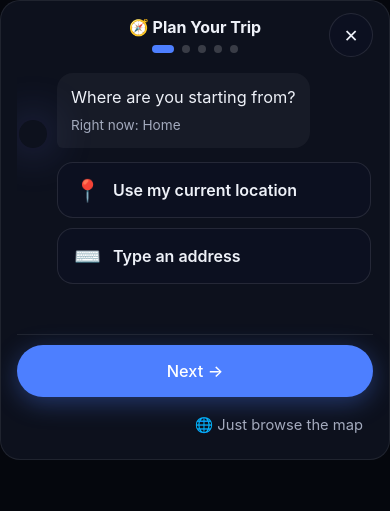
Test: Plan Your Trip wizard › Back returns to the previous step and Skip moves on without an answer
Click the button "Next →". click: (195, 371)
box: top-left (17, 345), bottom-right (373, 397)
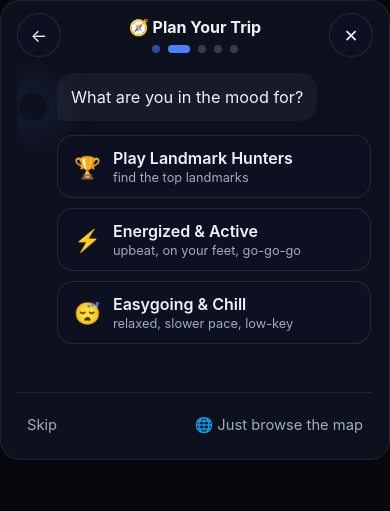
Click the button "Skip". click: (42, 425)
box: top-left (17, 403), bottom-right (67, 447)
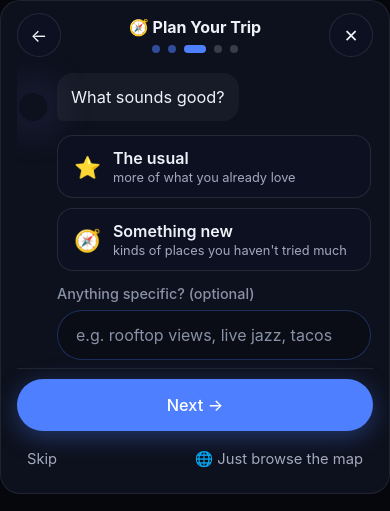
Check: the text "What sounds good?" is shown, box top-left (71, 85), bottom-right (225, 110)
Click the button "←". click: (39, 35)
box: top-left (17, 13), bottom-right (61, 57)
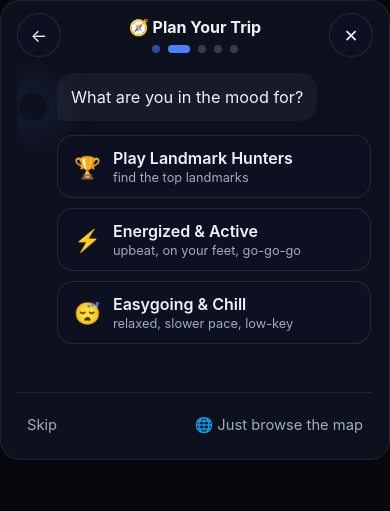
Check: the text "What are you in the mood for?" is shown, box top-left (71, 85), bottom-right (303, 110)
